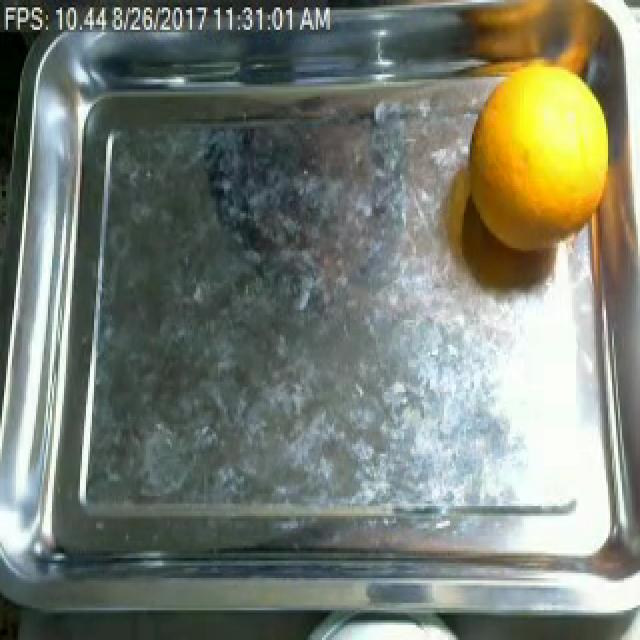Fruit: (456, 47, 624, 263), (446, 0, 618, 79)
